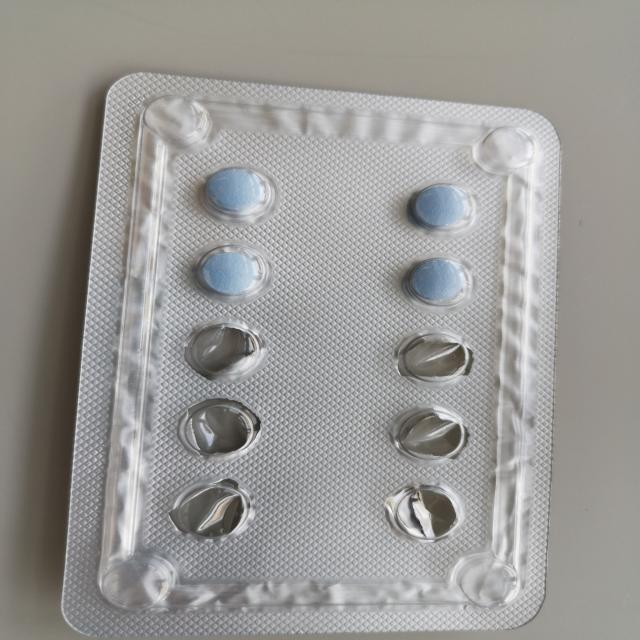Empty: (179, 319, 280, 387), (166, 477, 258, 547), (174, 397, 265, 464), (385, 403, 477, 468), (378, 481, 466, 548), (385, 329, 480, 389)
Pill: (180, 240, 284, 304), (394, 176, 491, 238), (191, 160, 283, 223), (398, 249, 482, 312)
